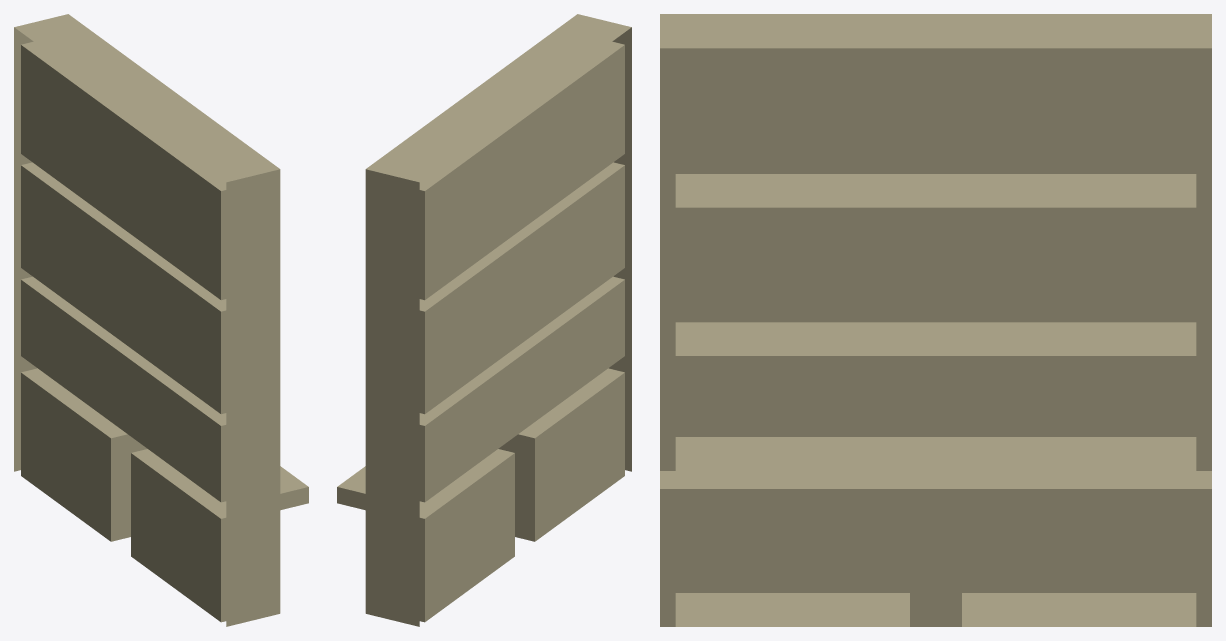
Rendered from Estanteria.fbx.
3 views of the same model, side by side, from view 1: azimuth 30°, elevation 25°; view 2: azimuth 150°, elevation 25°; view 3: azimuth 270°, elevation 25° (orthographic). The views are drawn at different scales.
Visible parts, largest first — view 1: Mueble1; view 2: Mueble1; view 3: Mueble1.
Part boxes in pixels (box(x1,y1,x2,y2)): Mueble1: box(14, 14, 308, 626); Mueble1: box(337, 14, 631, 626); Mueble1: box(660, 14, 1211, 626).
Size of the model in its own units: 0.4585 by 2.36 by 2.04.
